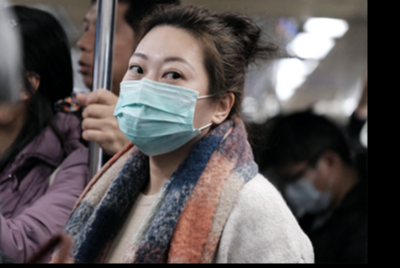with_mask: (113, 49, 211, 158), (277, 165, 332, 218)
without_mask: (73, 12, 133, 91)
